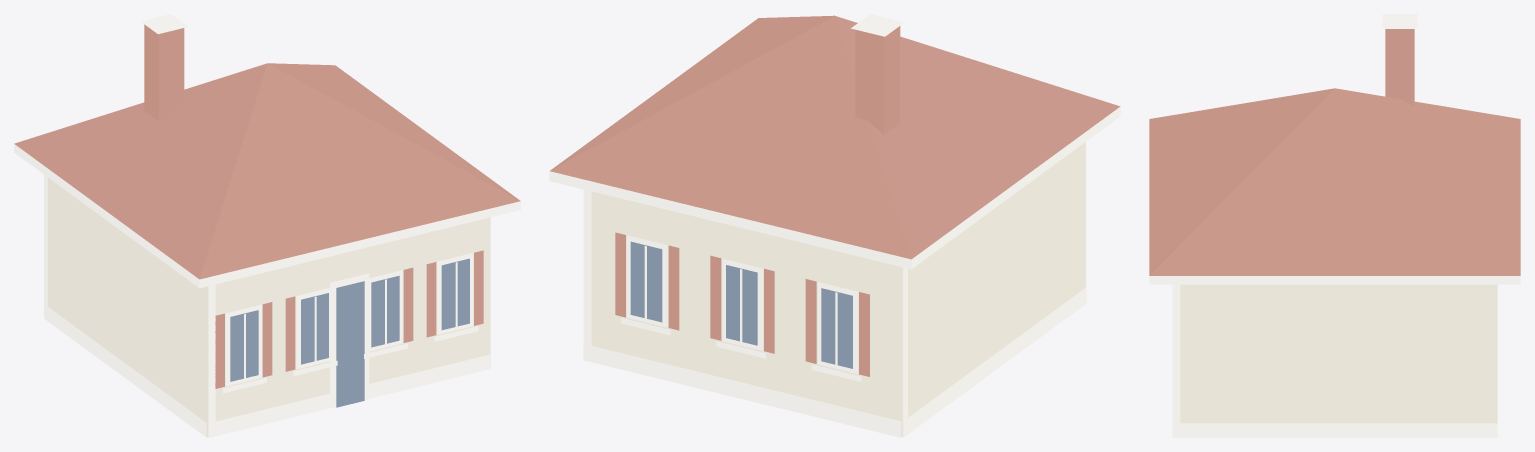
Rendered from Blender_House_Hip_2.glb.
The picture shows the model from 3 angles, left to right: view 1: azimuth 30°, elevation 25°; view 2: azimuth 150°, elevation 25°; view 3: azimuth 270°, elevation 25°; orthographic projection. The views are drawn at different scales.
Visible parts, largest first — view 1: Blender_House_Hip_2; view 2: Blender_House_Hip_2; view 3: Blender_House_Hip_2.
Boxes of the visible parts, x1,y1,x2,y2 form: Blender_House_Hip_2: (14, 14, 520, 437); Blender_House_Hip_2: (549, 14, 1120, 437); Blender_House_Hip_2: (1149, 14, 1520, 437).
Bounding box in the file's own units: 1.14 × 1.06 × 1.14.
